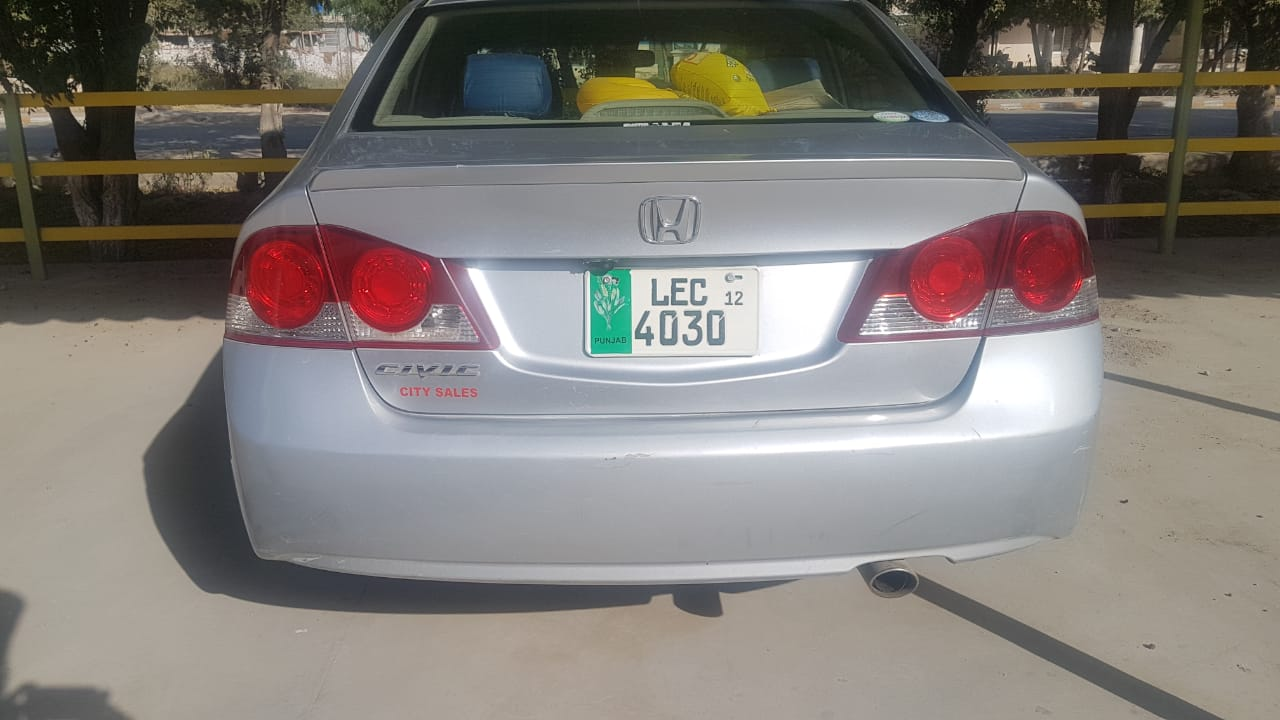license plate: (584, 272, 757, 357)
